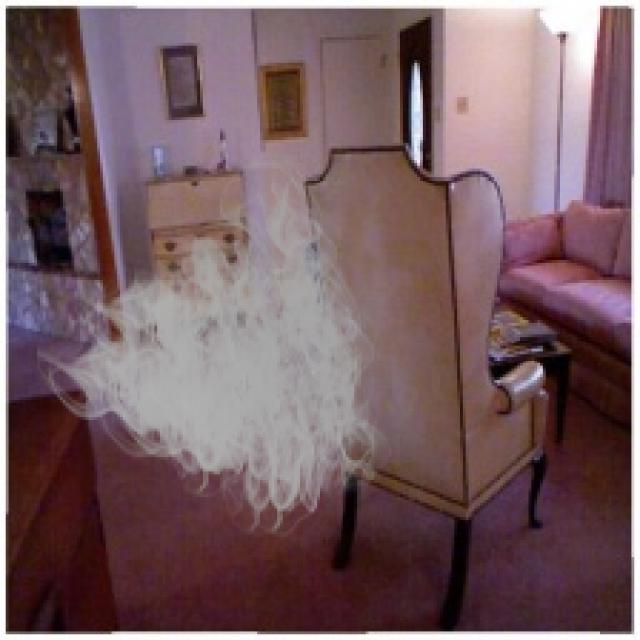smoke: (37, 146, 400, 548)
